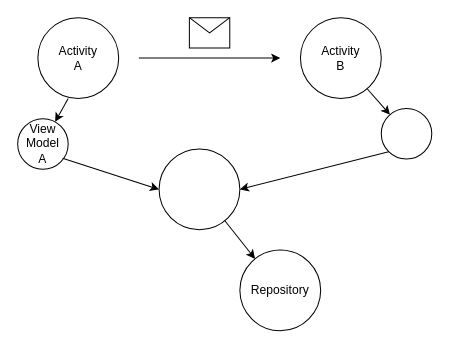
Some shapes in this 449 by 348 pixel diagram are drawn without their labels. The shapes that lost their labels are listed below. From the top down, each one's centre as x and y in pixels, then its label:
the point at 406,133: View Model B
the point at 199,189: Application
